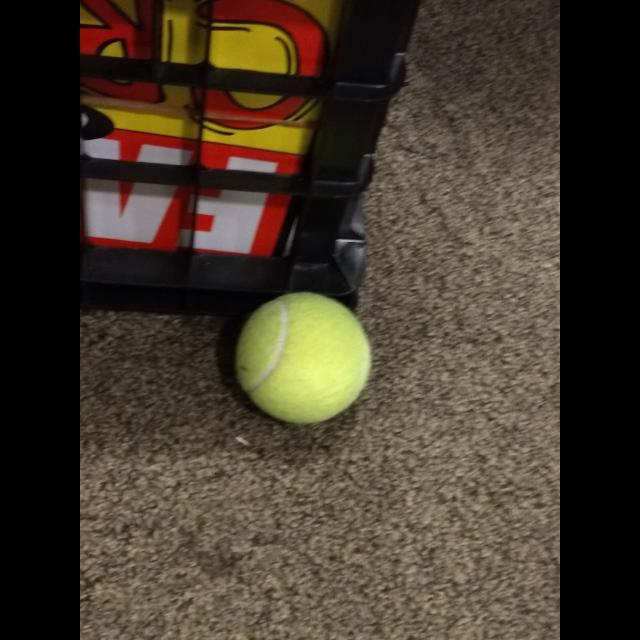tennis-ball: (234, 289, 373, 429)
